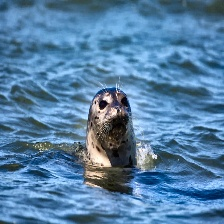seal: (86, 87, 136, 170)
